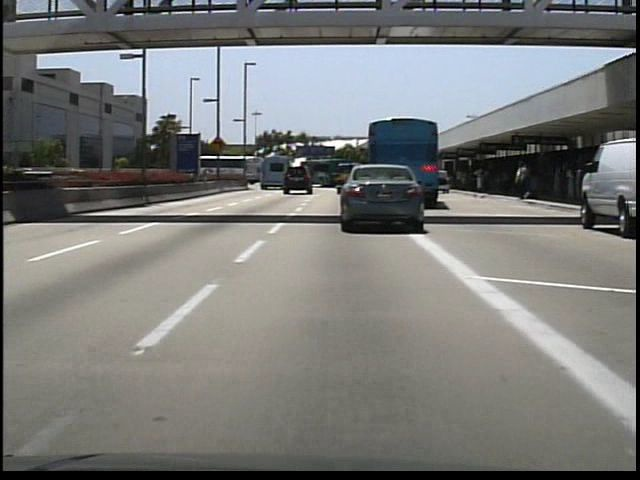person: (515, 159, 532, 202)
